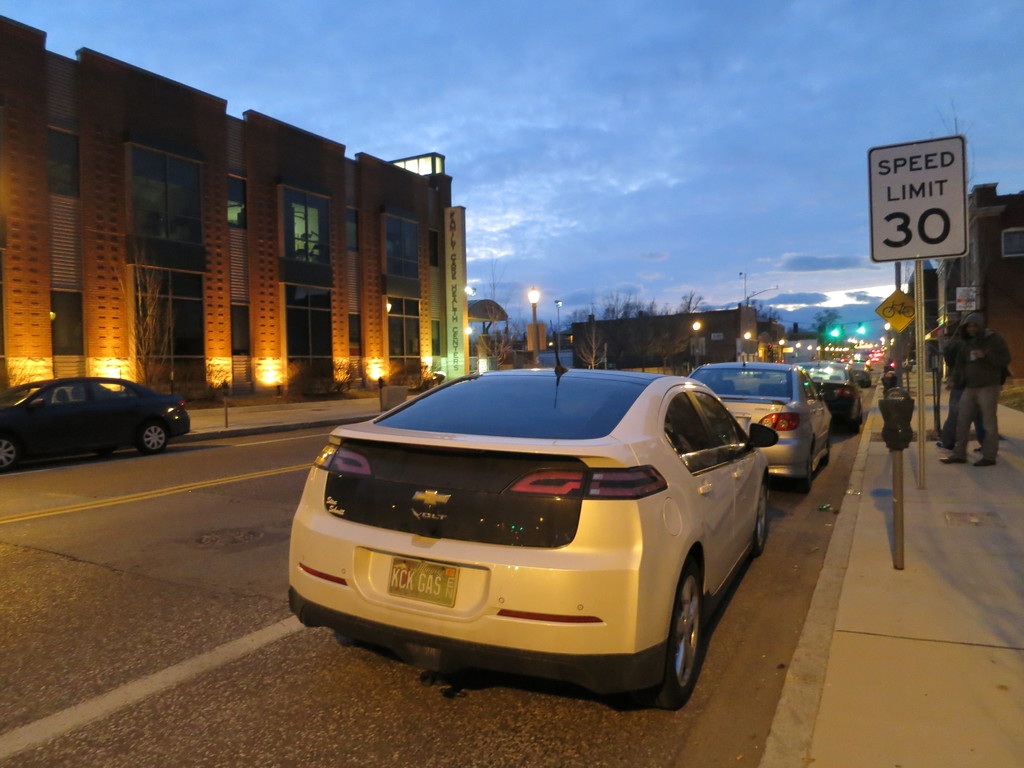Car: (289, 332, 779, 709), (689, 356, 832, 493), (0, 377, 190, 471), (759, 359, 870, 431)
